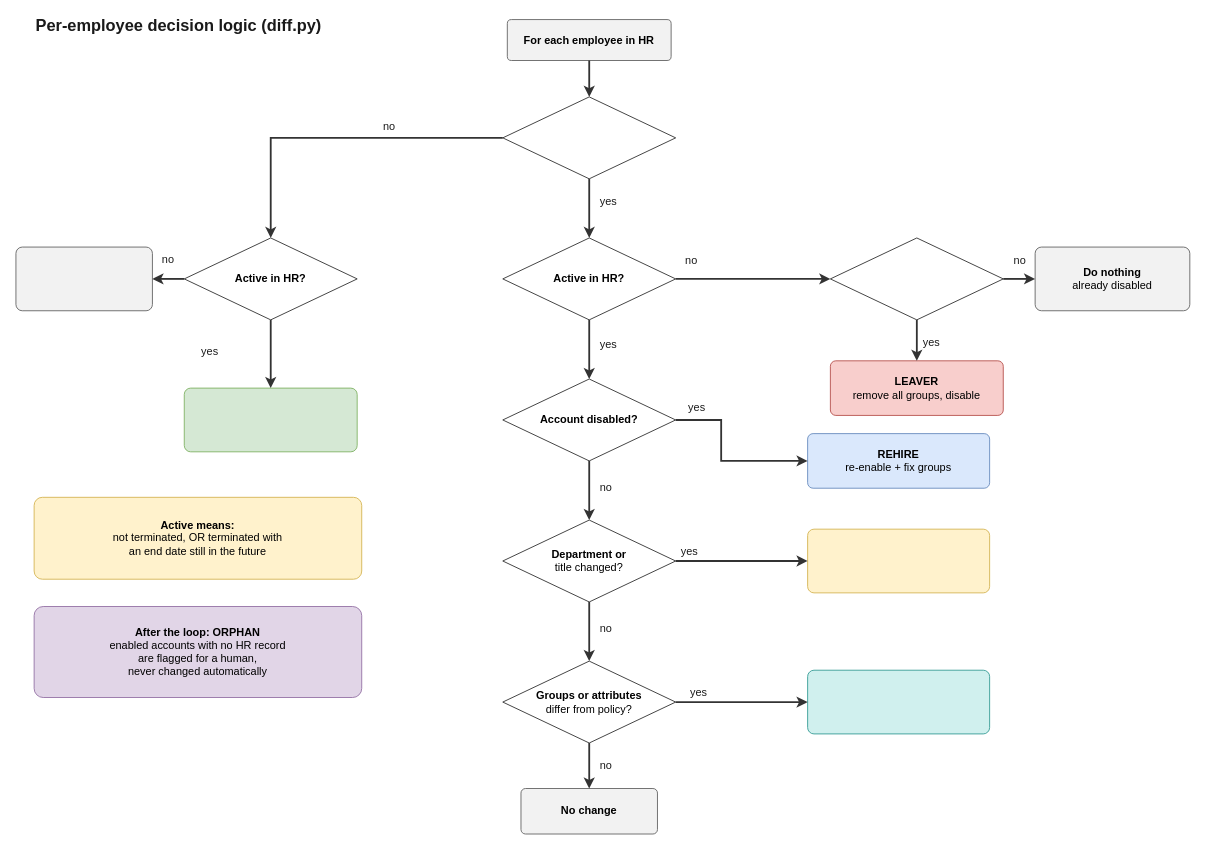
Some shapes in this 1206 by 850 pixel diagram are drawn without their labels. The box of each missing label's shape, as (x1, y1, x2, y2) in pixels:
Account enabled?: (829, 237, 1003, 320)
Account exists in directory?: (502, 96, 676, 179)
Do nothing never create for people already gone: (15, 246, 152, 311)
JOINER create account + policy groups: (183, 387, 357, 452)
MOVER add new groups remove old groups: (807, 528, 990, 593)
SYNC correct the drift: (807, 669, 990, 734)
